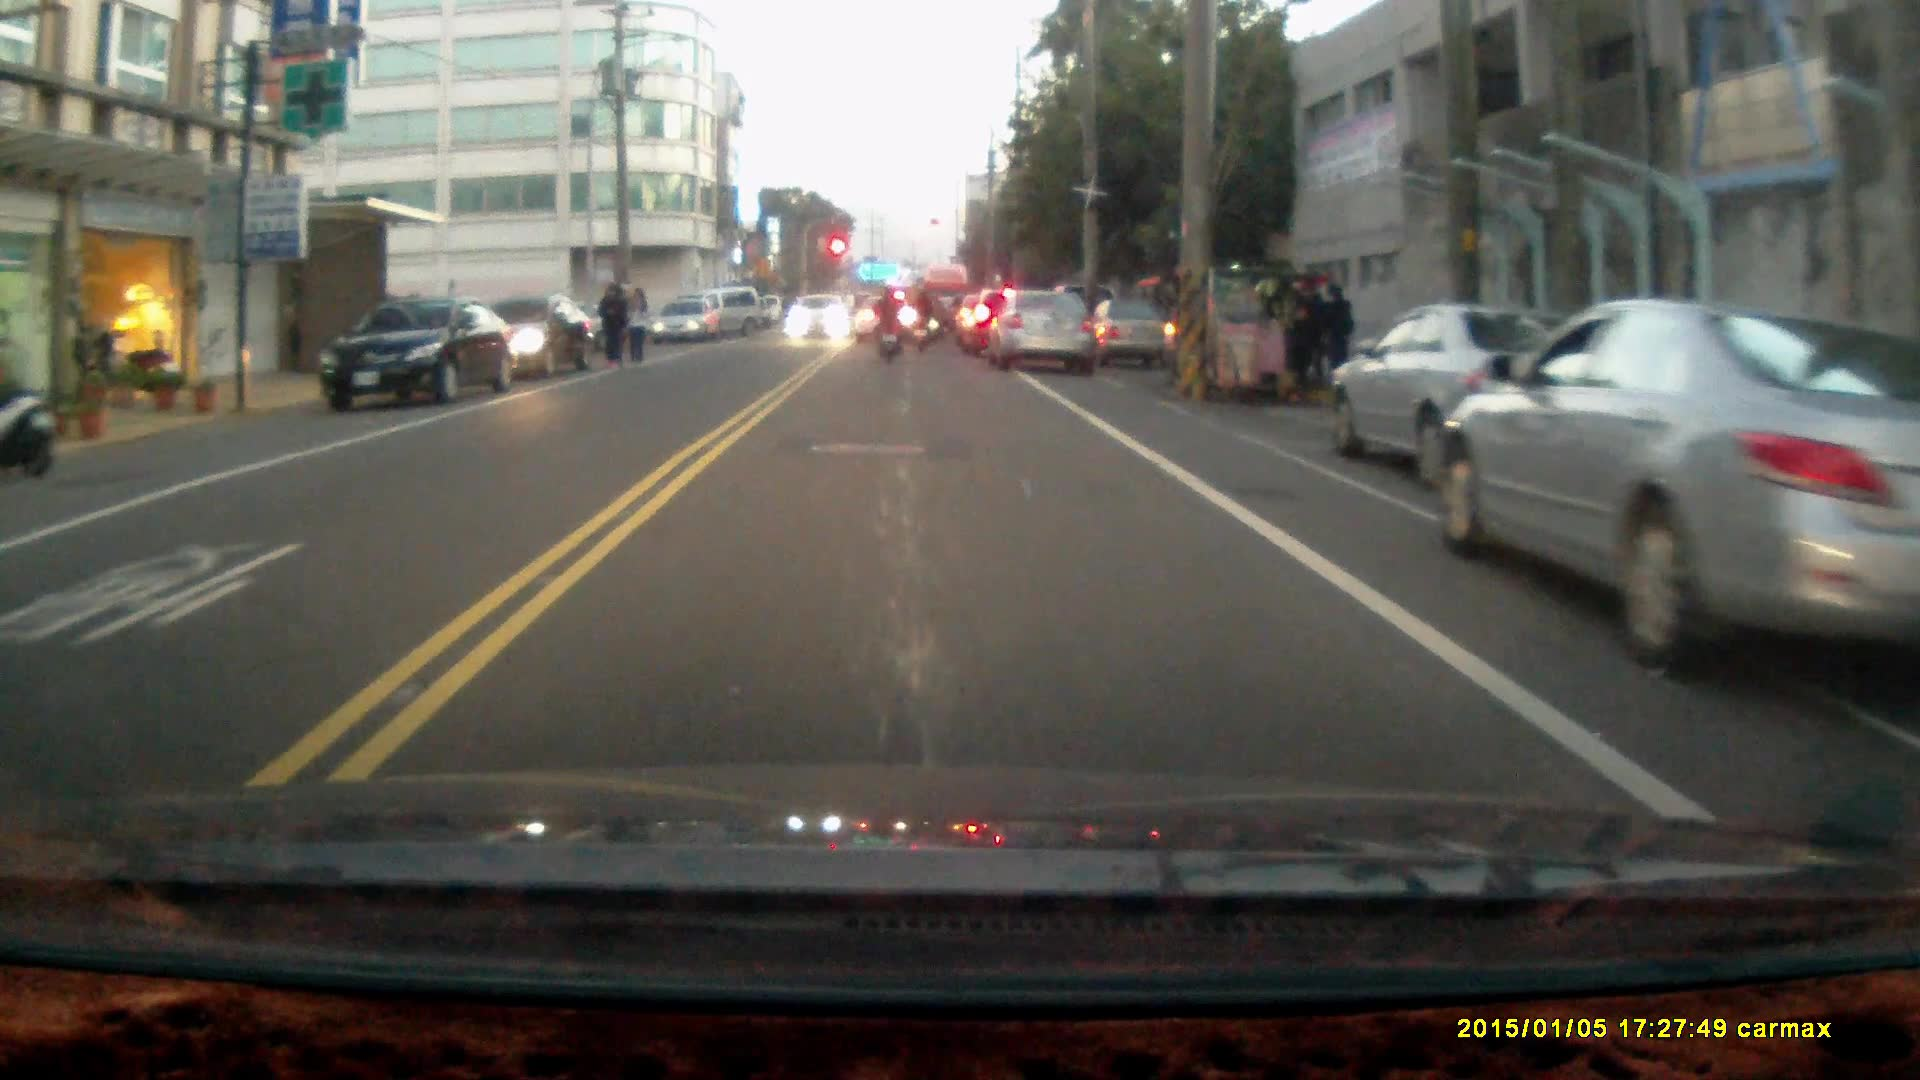pedestrian: (1319, 281, 1357, 384), (594, 279, 628, 368), (625, 280, 650, 365)
rider: (870, 284, 903, 365), (907, 287, 936, 352)
vehicle: (1433, 295, 1920, 693), (1327, 299, 1613, 486), (313, 292, 522, 410), (1156, 262, 1332, 403), (483, 291, 602, 376), (991, 283, 1102, 370), (653, 297, 725, 346), (787, 293, 853, 343)
